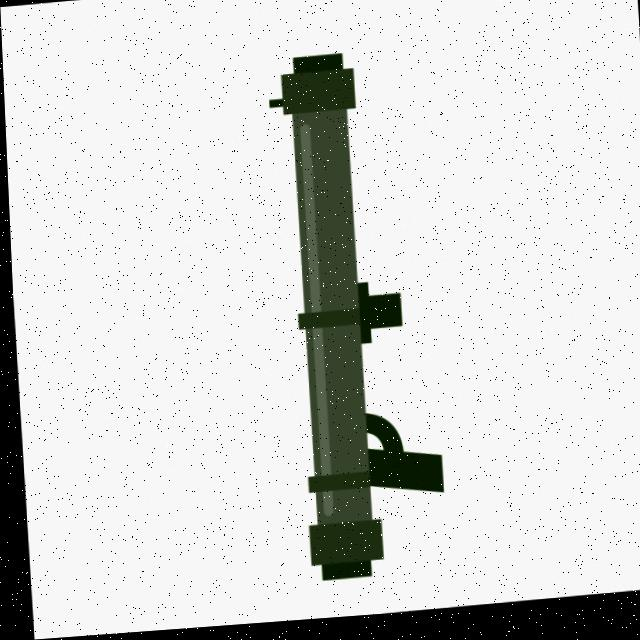rocket: (262, 49, 445, 588)
